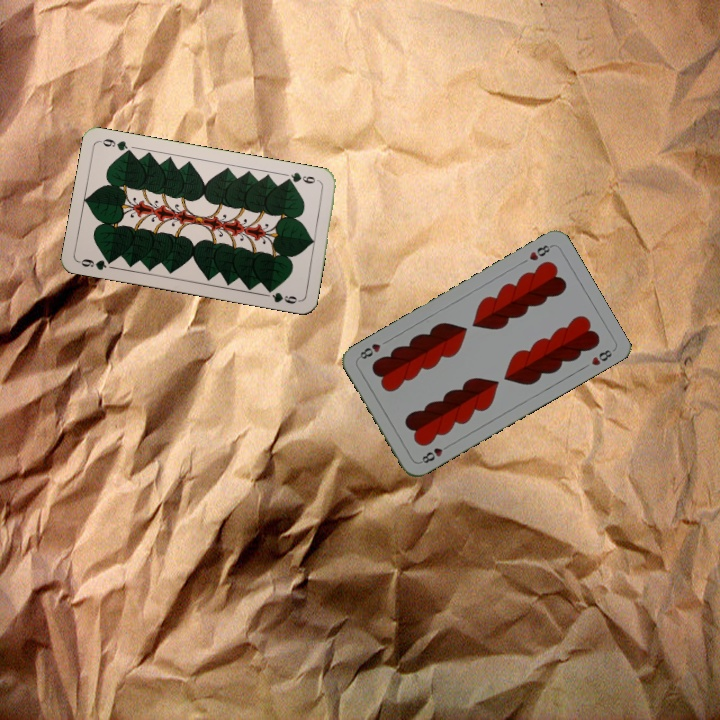G9: (281, 168, 323, 186), (75, 254, 117, 272)
H8: (416, 440, 453, 466), (525, 241, 555, 263)
